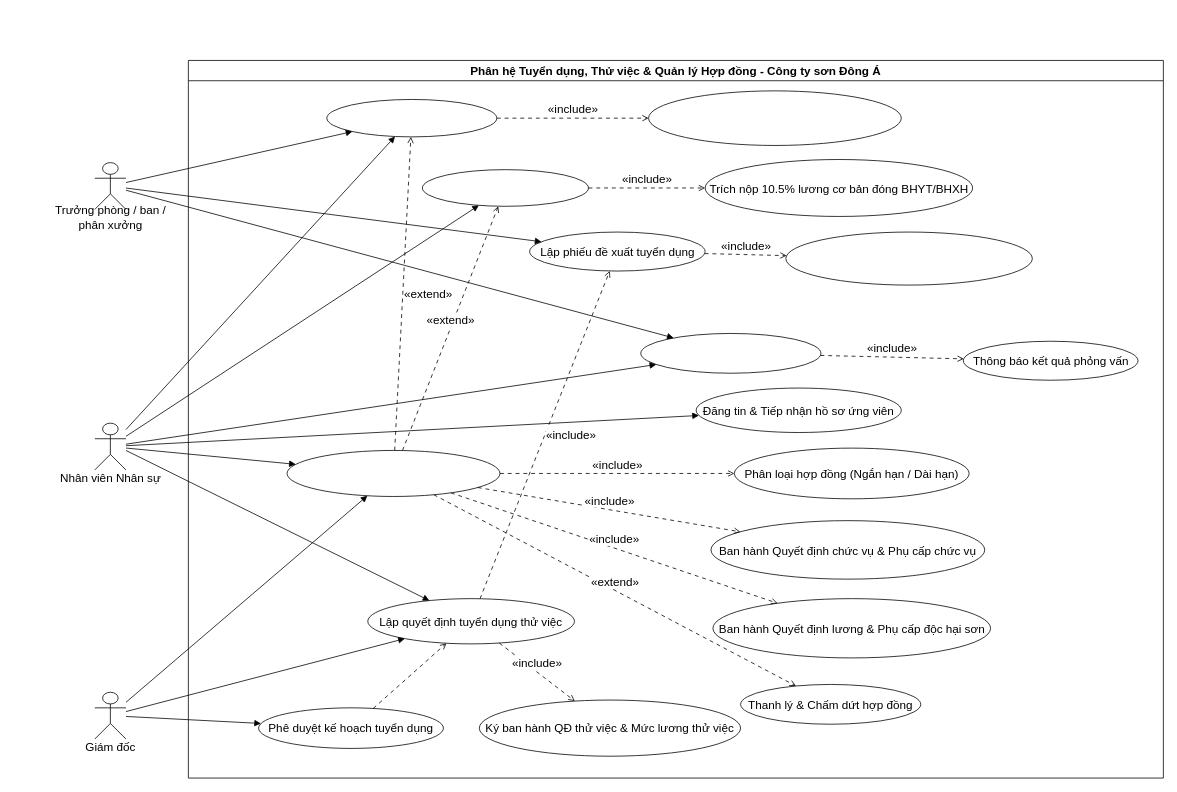
Image size: 1177x792. Some labels were removed from this diagram. Each missing label, with the centre of its shape:
Kiểm tra định biên & Nhu cầu ca kíp xưởng: point (908, 258)
Ký kết hợp đồng lao động chính thức: point (393, 473)
Phỏng vấn & Đánh giá ứng viên: point (730, 353)
Quản lý hồ sơ BHYT & BHXH: point (505, 187)
Theo dõi & Đánh giá thử việc: point (411, 118)
Xác nhận kết quả thử việc (Đạt / Không đạt): point (774, 117)
